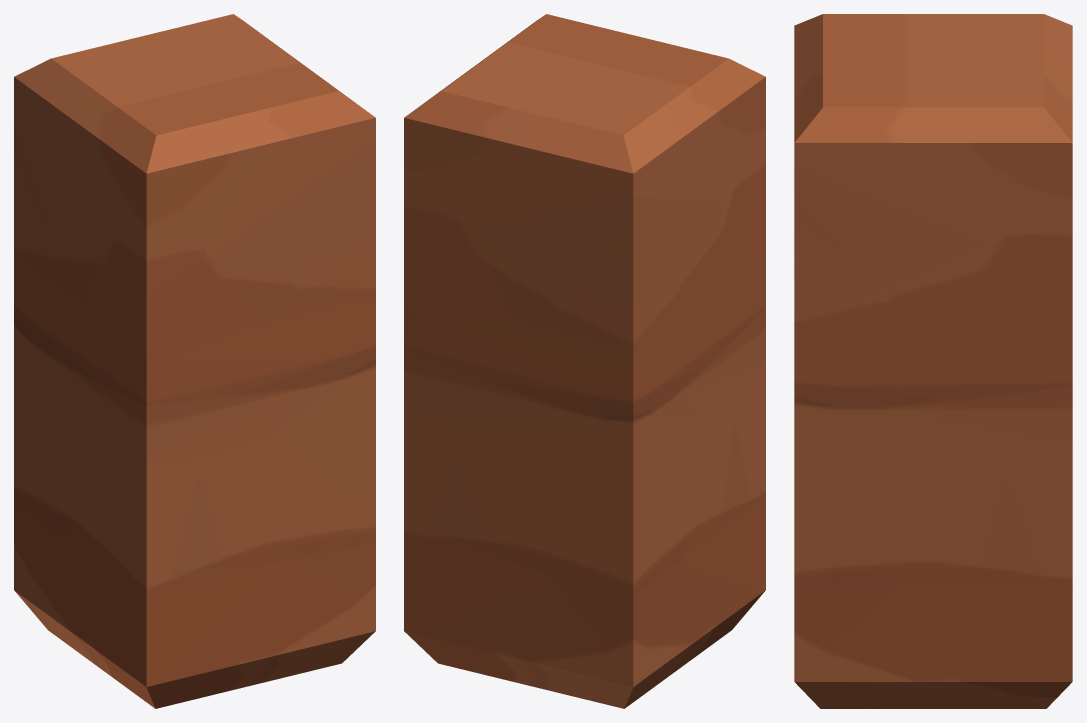
The model's file is SM_Bld_Wall_Balcony_Pillar_Ground_01.fbx.
3 renders of one model, left to right at view 1: azimuth 30°, elevation 25°; view 2: azimuth 150°, elevation 25°; view 3: azimuth 270°, elevation 25°, orthographic. The views are drawn at different scales.
Parts seen in each view (by area): view 1: SM_Bld_Wall_Balcony_Pillar_Ground_01; view 2: SM_Bld_Wall_Balcony_Pillar_Ground_01; view 3: SM_Bld_Wall_Balcony_Pillar_Ground_01.
Part boxes in pixels (box(x1,y1,x2,y2)): SM_Bld_Wall_Balcony_Pillar_Ground_01: box(14, 14, 375, 708); SM_Bld_Wall_Balcony_Pillar_Ground_01: box(404, 14, 765, 708); SM_Bld_Wall_Balcony_Pillar_Ground_01: box(794, 14, 1072, 708).
Size of the model in its own units: 24.83 by 59.17 by 24.83.
